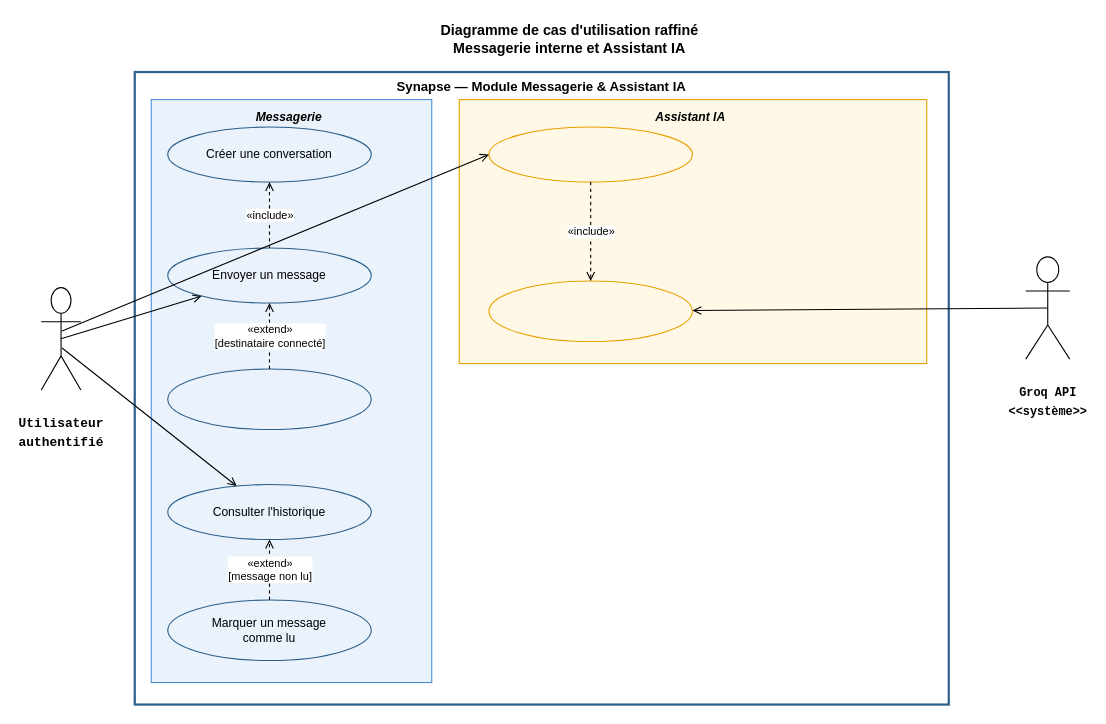
This 1106x724 diagram has some shape labels left out. Here are the shapes that lost their labels. From the top down, the centre of each, then its label:
At (590,154): "Interroger l'assistant IA".
At (590,311): "Obtenir une réponse contextualisée (RAG)".
At (269,399): "Recevoir un message en temps réel".
